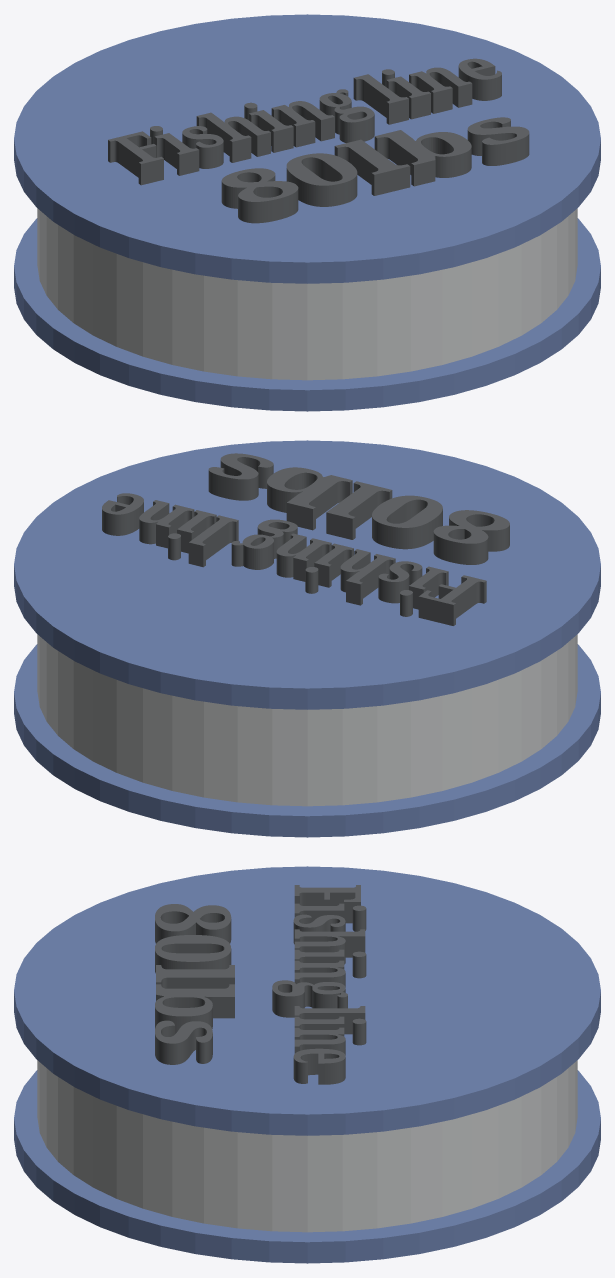
Rendered from Brilliant Crift-Krunk.glb.
3 views of the same model, one above another, from view 1: azimuth 30°, elevation 25°; view 2: azimuth 150°, elevation 25°; view 3: azimuth 270°, elevation 25° (orthographic).
Parts seen in each view (by area): view 1: Mesh_Mesh_head_geo.001_lambert2SG.001; view 2: Mesh_Mesh_head_geo.001_lambert2SG.001; view 3: Mesh_Mesh_head_geo.001_lambert2SG.001.
Part boxes in pixels (x1=…): Mesh_Mesh_head_geo.001_lambert2SG.001: x1=14, y1=14, x2=600, y2=411; Mesh_Mesh_head_geo.001_lambert2SG.001: x1=14, y1=440, x2=600, y2=837; Mesh_Mesh_head_geo.001_lambert2SG.001: x1=14, y1=866, x2=600, y2=1263.
Bounding box in the file's own units: 0.025 × 0.008 × 0.025.
